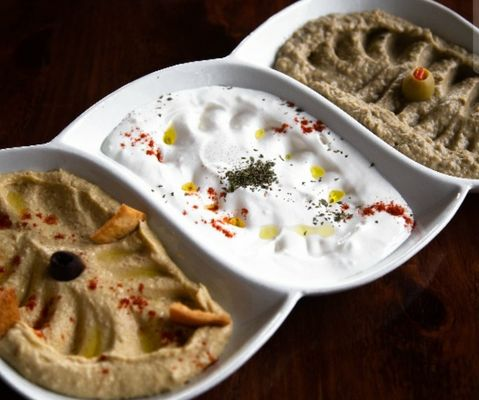curry: (222, 157, 278, 193)
sushi: (4, 50, 477, 390), (87, 60, 468, 310), (228, 1, 479, 196)
